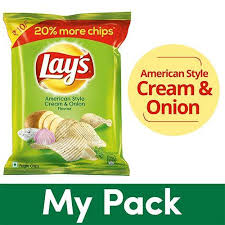lays-small: (5, 10, 124, 177)
